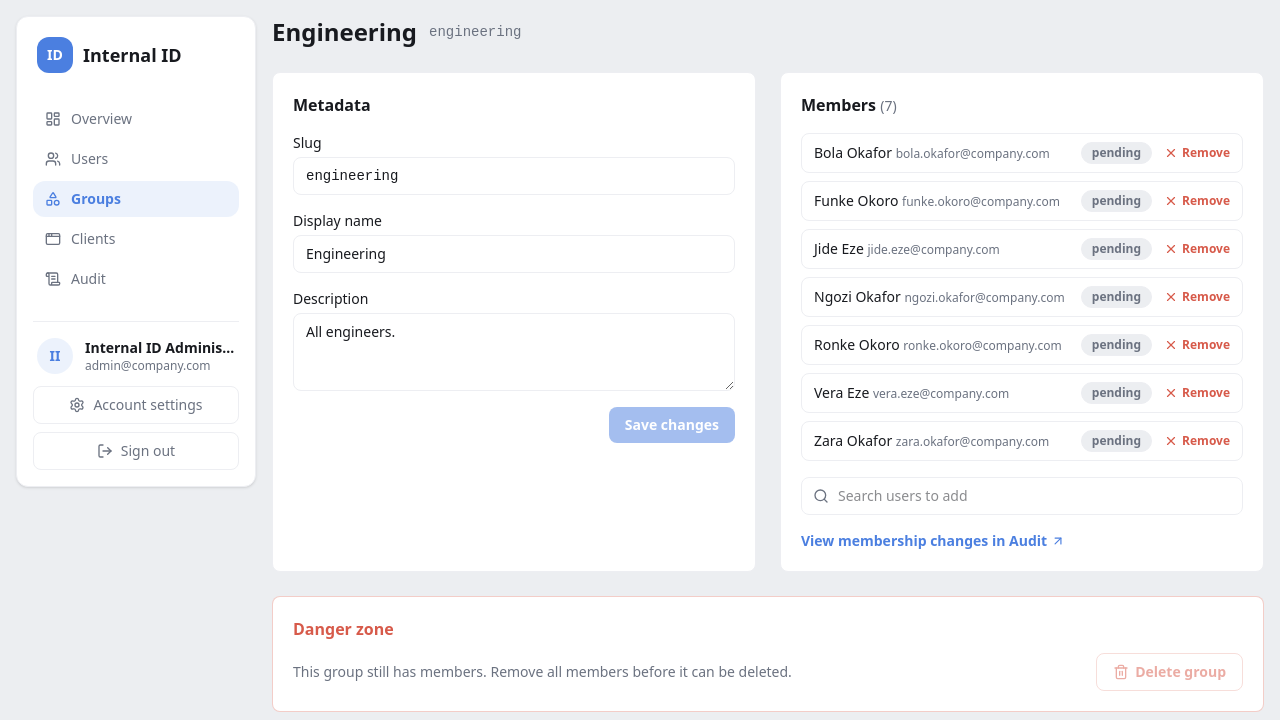
Scenario: editing group metadata updates the heading
Expected: the heading "Engineering" is shown, x1=272 y1=16 x2=417 y2=48
Replace the text in the field labelled "Display name" with "Engineering & Platform": (514, 254) x1=293 y1=235 x2=735 y2=273
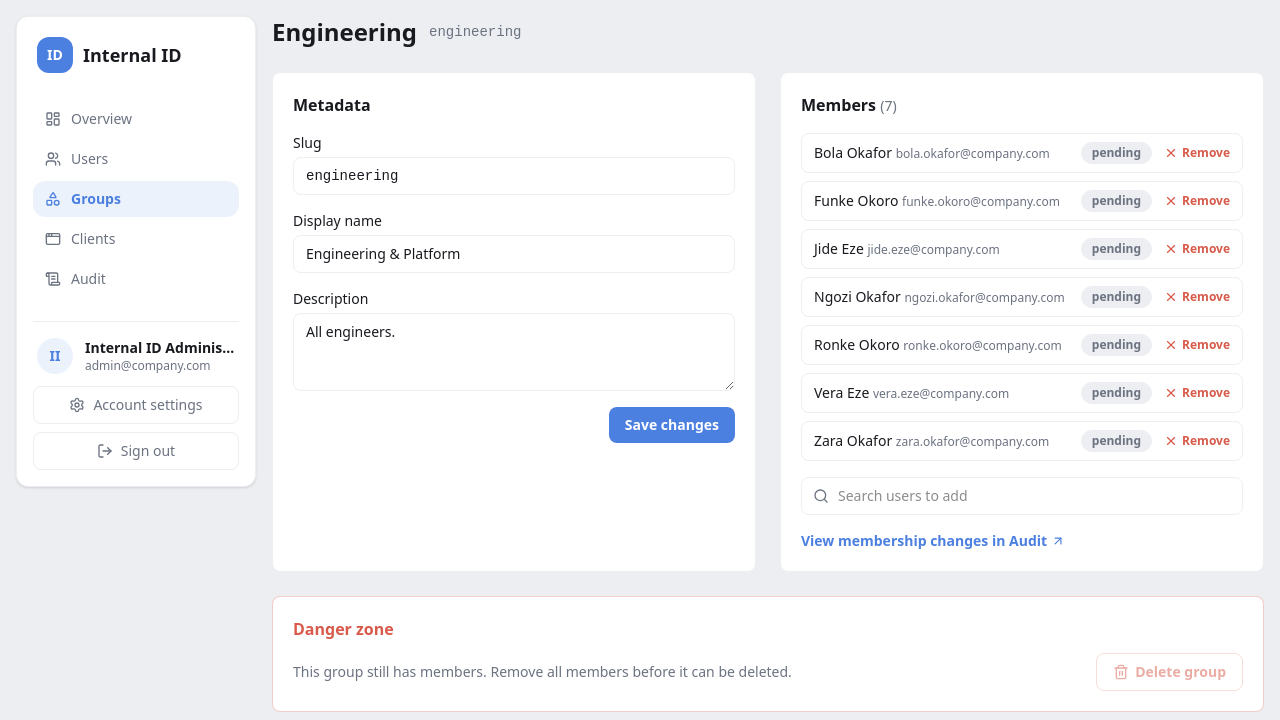
Click the button "Save changes": (672, 425) x1=609 y1=407 x2=735 y2=443
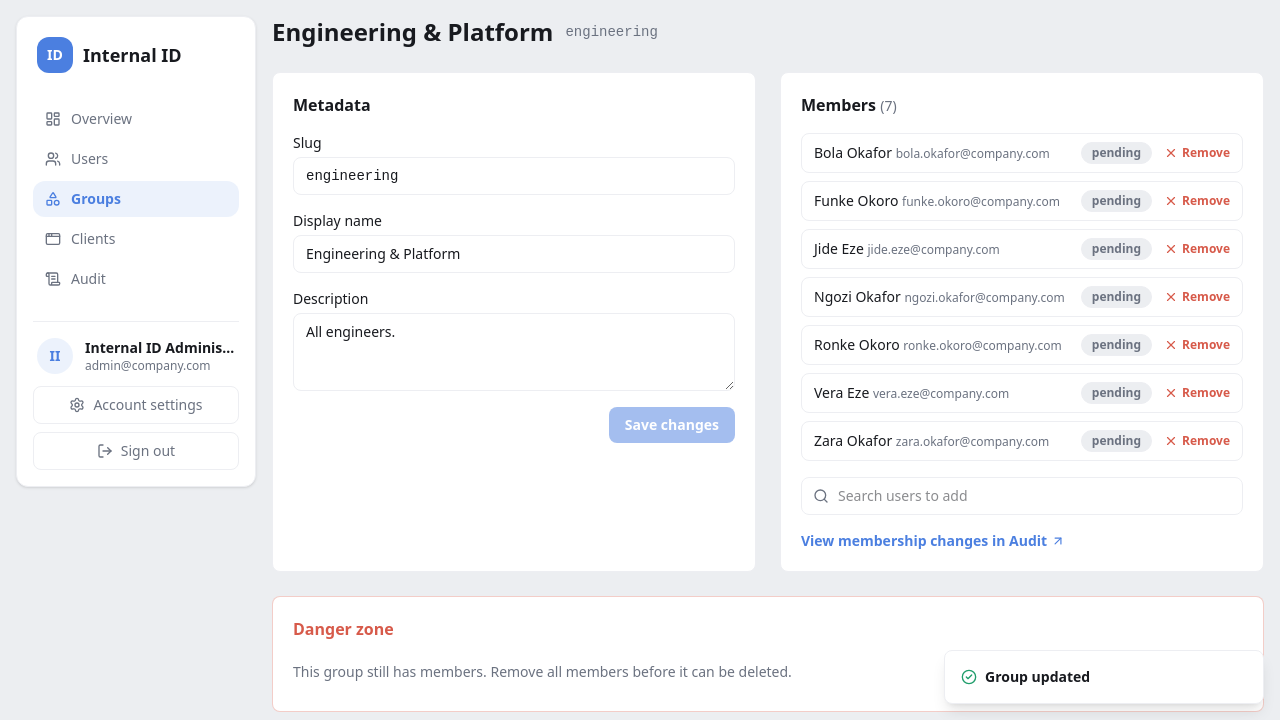
Expected: the heading "Engineering & Platform" is shown, x1=272 y1=16 x2=553 y2=48
